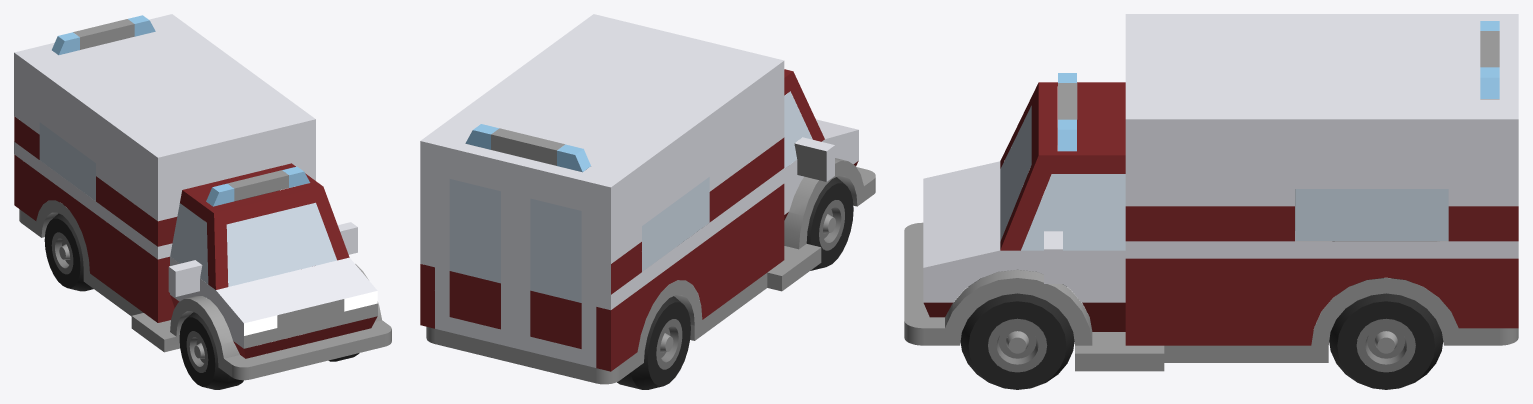
The model's file is ambulance_textures.gltf.
3 renders of one model, left to right at view 1: azimuth 30°, elevation 25°; view 2: azimuth 150°, elevation 25°; view 3: azimuth 270°, elevation 25°, orthographic. The views are drawn at different scales.
Visible parts, largest first — view 1: body, wheel_frontRight, wheel_backRight; view 2: body, doorRight, doorLeft, wheel_backRight, wheel_frontRight; view 3: body, wheel_backLeft, wheel_frontLeft.
Part boxes in pixels (x1,y1,x2,y2): body: (14,14,391,380); wheel_frontRight: (179,312,243,389); wheel_backRight: (44,213,93,291); body: (420,14,875,384); doorRight: (515,179,596,367); doorLeft: (435,160,515,348); wheel_backRight: (617,296,690,389); wheel_frontRight: (806,177,853,270); body: (904,14,1518,371); wheel_backLeft: (1329,278,1443,389); wheel_frontLeft: (960,293,1074,389).
Size of the model in its own units: 1.5 by 1.7 by 3.2.
